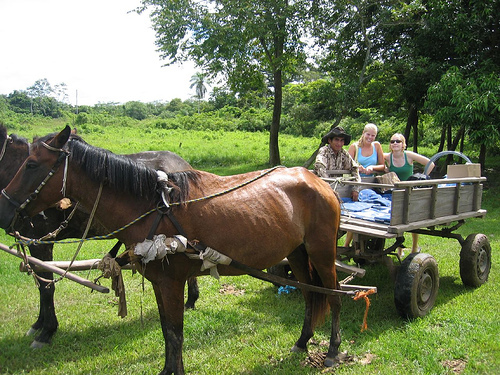horse: (1, 126, 357, 375), (1, 122, 207, 352)
